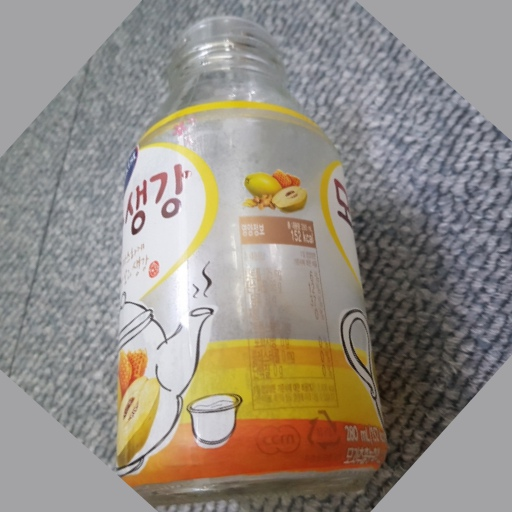Glass_4: (109, 17, 389, 502)
